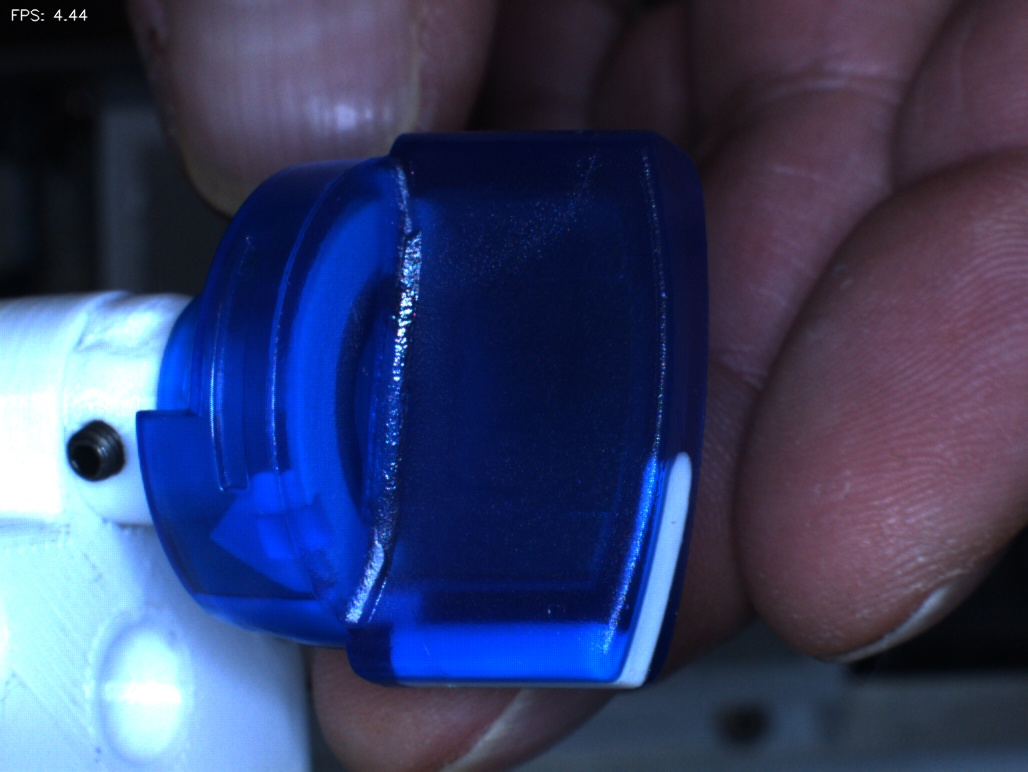Givrage: (386, 584, 455, 676)
